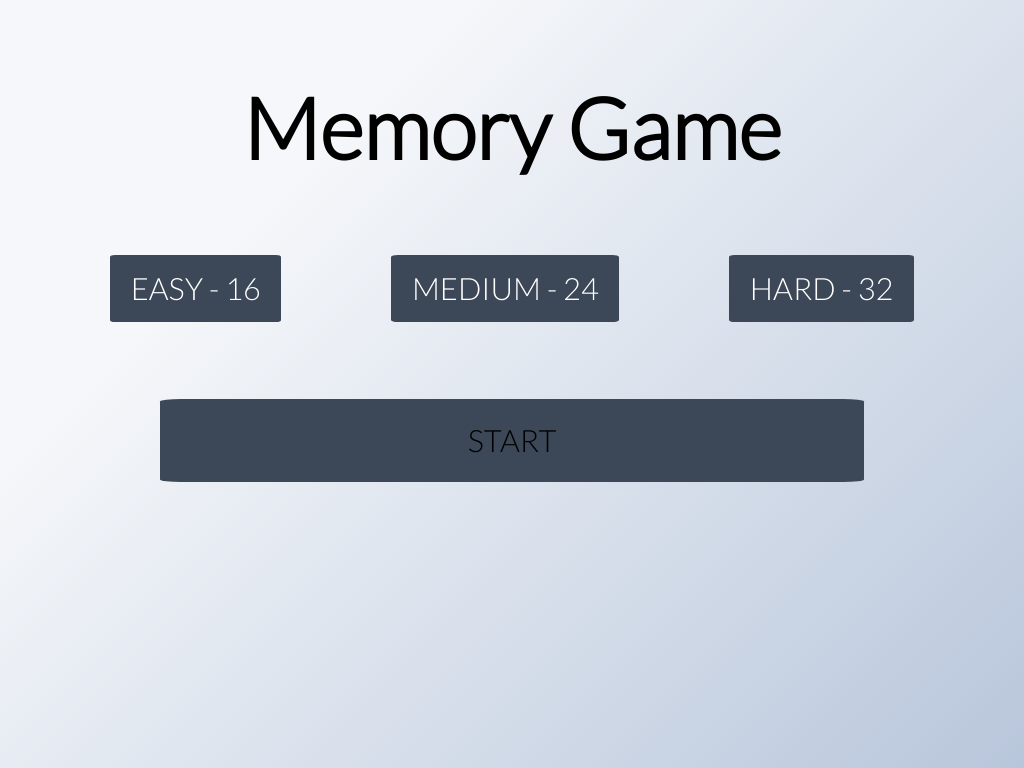
Test: Menu Footer › clicked button change its className
Click the button "EASY - 16": coordinates (196, 288) top-left (110, 255), bottom-right (281, 322)
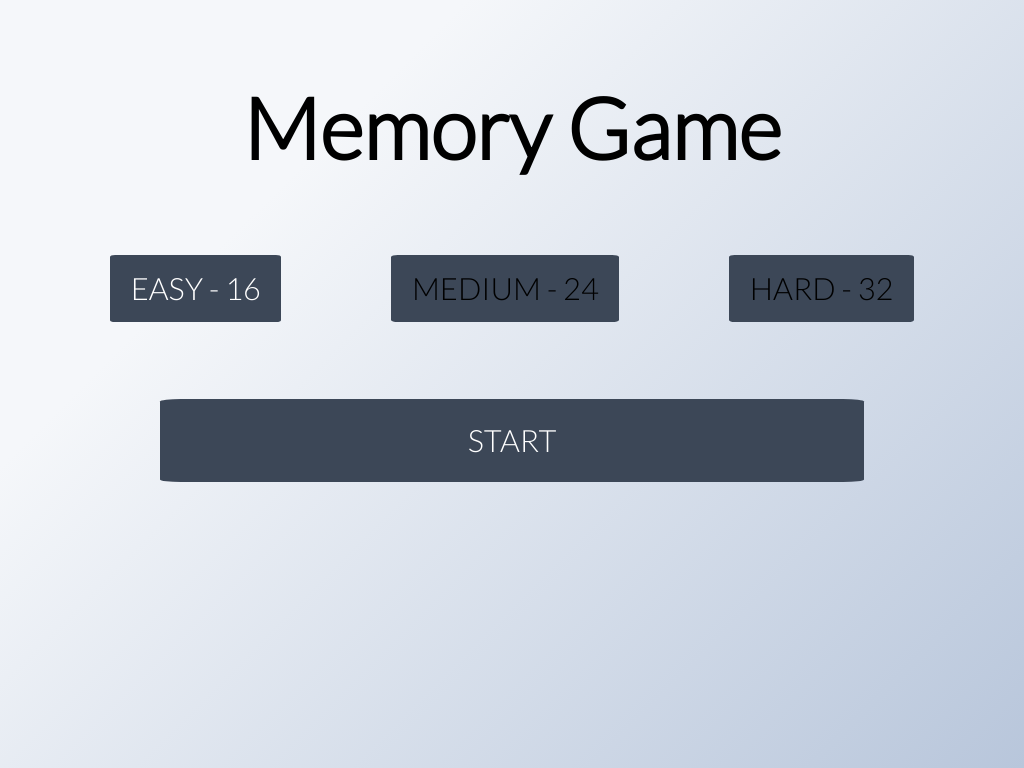
expect the number of buttons with class "size-button" is 1: met, box top-left (110, 255), bottom-right (281, 322)
expect the number of buttons with class "size-button-disabled" is 2: met, box top-left (392, 255), bottom-right (619, 322); top-left (729, 255), bottom-right (914, 322)
